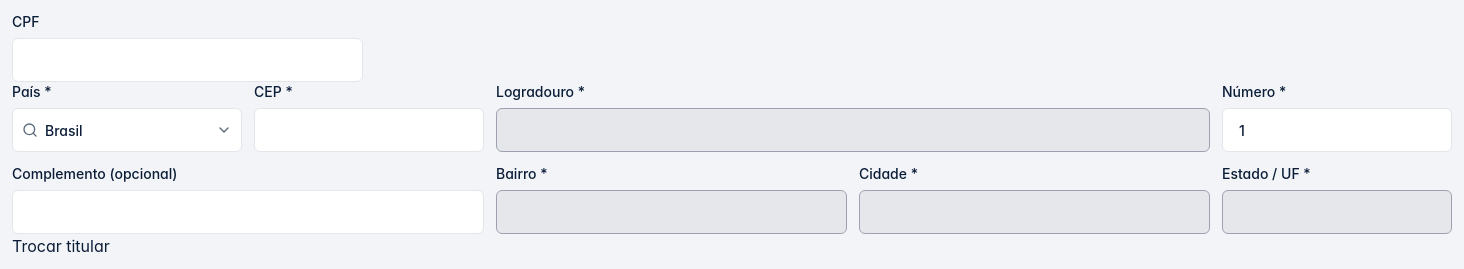
it: CPF também aceita colagem formatada sem disparar consulta empresarial
The width and height of the screenshot is (1464, 269).
Click the field labelled "CPF" at (188,60), box [12,38,363,82]
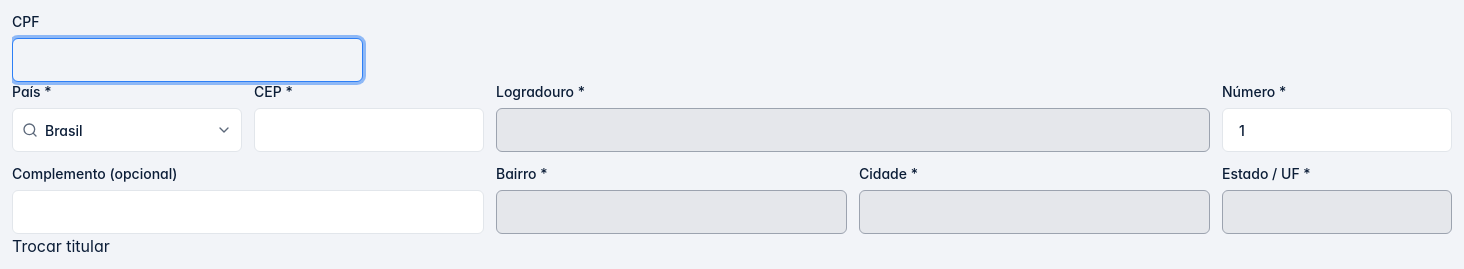
Type keys "123.456.789-01"
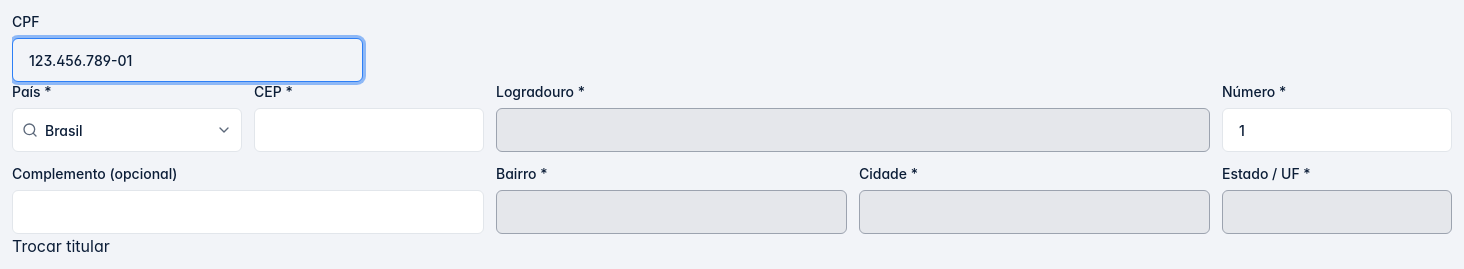
Expected: the field labelled "CPF" holds "123.456.789-01", [12,38,363,82]
